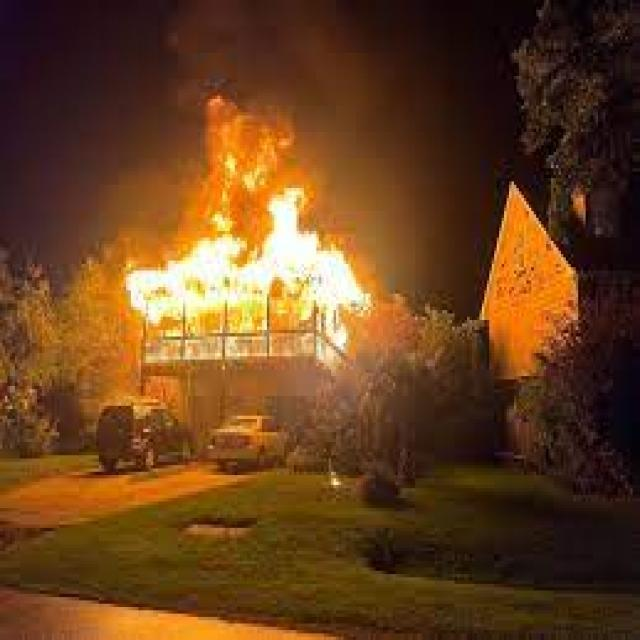Fire: (120, 203, 394, 354)
